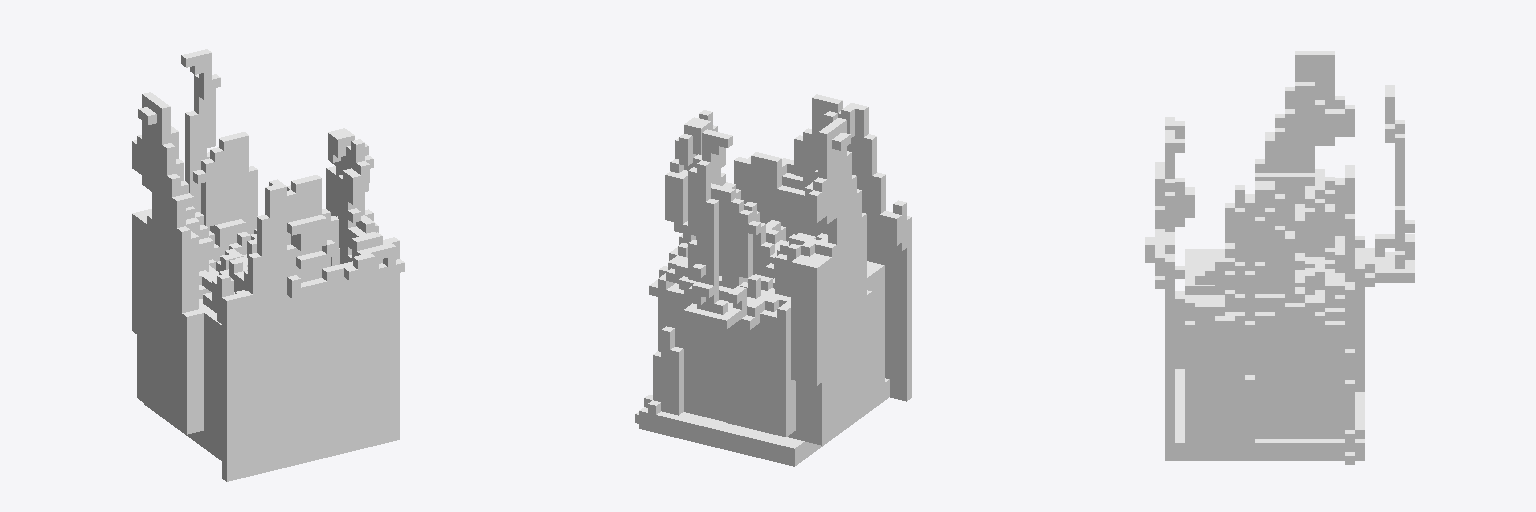
The model's file is black_tower_with_projectile-2.obj.
The picture shows the model from 3 angles: view 1: azimuth 30°, elevation 25°; view 2: azimuth 150°, elevation 25°; view 3: azimuth 270°, elevation 25°; orthographic projection.
Parts seen in each view (by area): view 1: object 1; view 2: object 1; view 3: object 1.
Boxes of the visible parts, x1=… form: object 1: x1=132, y1=49, x2=404, y2=481; object 1: x1=635, y1=94, x2=911, y2=466; object 1: x1=1145, y1=51, x2=1414, y2=464.
Size of the model in its own units: 2.2 by 3.6 by 2.7.